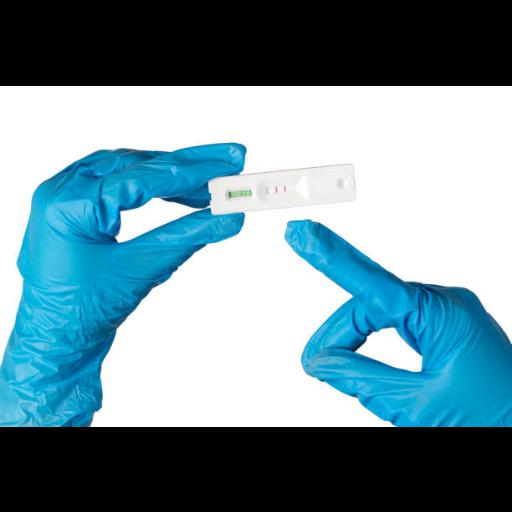Pos: (209, 161, 358, 216)
